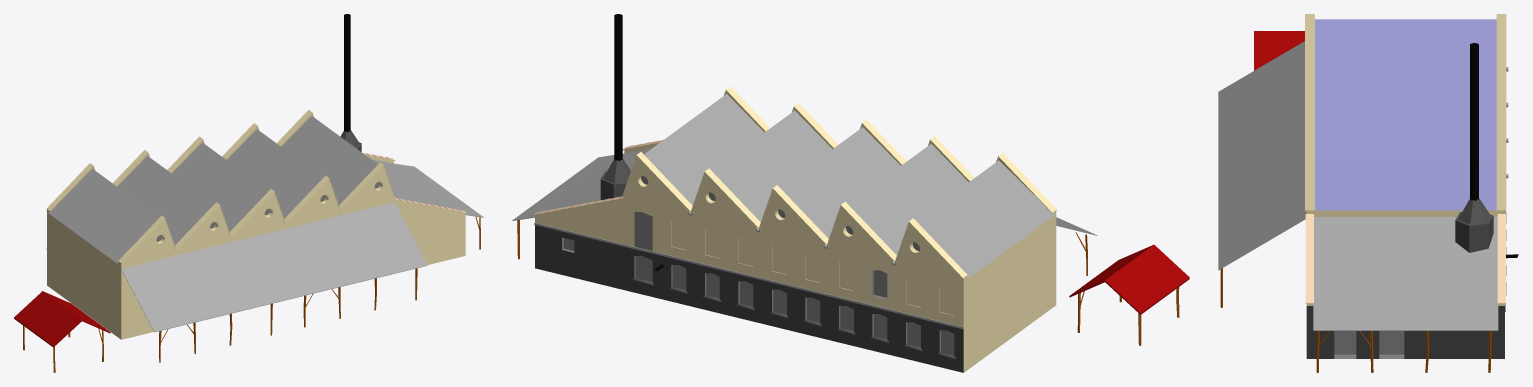
The model's file is Mallka Bobka.fbx.
3 renders of one model, left to right at view 1: azimuth 30°, elevation 25°; view 2: azimuth 150°, elevation 25°; view 3: azimuth 270°, elevation 25°, orthographic. The views are drawn at different scales.
Visible parts, largest first — view 1: Malka Bobka; view 2: Malka Bobka; view 3: Malka Bobka.
Part boxes in pixels (x1,y1,x2,y2): Malka Bobka: (14, 14, 483, 372); Malka Bobka: (512, 14, 1189, 372); Malka Bobka: (1218, 14, 1518, 372).
Bounding box in the file's own units: 807 × 356 × 347.
